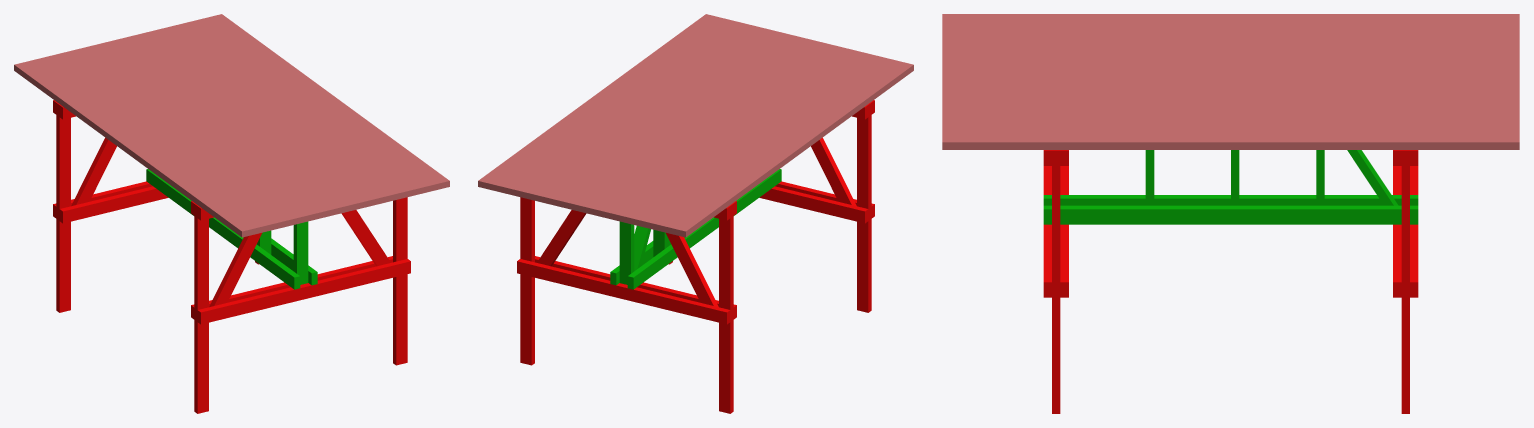
File: result.glb
3 views of the same model, side by side, from view 1: azimuth 30°, elevation 25°; view 2: azimuth 150°, elevation 25°; view 3: azimuth 270°, elevation 25° (orthographic). The views are drawn at different scales.
Parts seen in each view (by area): view 1: 9792a652-3efe-4f3f-b8a2-f548344d729b__Box, f1fec5ac-996d-42b7-b655-f2991d776836__sideH, f854be0a-c962-4844-a119-3eed3d0a4d00__undefined, 90ff8b2f-a853-48b8-ade2-2514db8a332b__sideV, 4728dd66-3bbc-416c-b225-6a0065177131__undefined, dd895e64-b2ae-44ae-b4f8-70ebdcbf1f4d__undefined, 9f80adec-7535-410c-8f7d-816133cfb4ee__undefined, a4da13e2-b9cd-4820-9bde-fc8479179db9__undefined, 02b046d8-9308-4064-b2f2-4af745e54d1c__undefined, 0e6a5e06-e553-4881-99ba-8f347dae840a__undefined, 61697658-4a92-440d-92f1-de6cc0e69054__undefined, 62936e7d-864f-4320-a2c1-ad2148bf4076__undefined (+19 smaller); view 2: 9792a652-3efe-4f3f-b8a2-f548344d729b__Box, 4464c026-9ac7-4032-bff3-0145e7881b99__undefined, 90ff8b2f-a853-48b8-ade2-2514db8a332b__sideV, f854be0a-c962-4844-a119-3eed3d0a4d00__undefined, 4728dd66-3bbc-416c-b225-6a0065177131__undefined, dd895e64-b2ae-44ae-b4f8-70ebdcbf1f4d__undefined, 9f80adec-7535-410c-8f7d-816133cfb4ee__undefined, a4da13e2-b9cd-4820-9bde-fc8479179db9__undefined, 02b046d8-9308-4064-b2f2-4af745e54d1c__undefined, 0e6a5e06-e553-4881-99ba-8f347dae840a__undefined, 61697658-4a92-440d-92f1-de6cc0e69054__undefined, 62936e7d-864f-4320-a2c1-ad2148bf4076__undefined (+19 smaller); view 3: 78b938e6-7015-48a1-84b4-b5d0e40783f9__undefined, 88ea505d-9f18-492b-9526-5902eb6b181f__strutH, 62936e7d-864f-4320-a2c1-ad2148bf4076__undefined, 02b046d8-9308-4064-b2f2-4af745e54d1c__undefined, 4728dd66-3bbc-416c-b225-6a0065177131__undefined, 1b61d40e-7fde-4cdb-9a35-c4bdc9554470__undefined, dd895e64-b2ae-44ae-b4f8-70ebdcbf1f4d__undefined, 61697658-4a92-440d-92f1-de6cc0e69054__undefined, da17747e-59f6-4504-9fa0-5fcd4ef2f35b__undefined, bf6d5e15-386f-40d2-84f0-f1fee8102ab4__undefined, c33bd7eb-45bf-45fe-bdcc-a957ac7b1c8f__undefined, 2b1341b1-254e-4b96-ad55-392aa042ffb5__undefined (+16 smaller).
Boxes of the visible parts, <box> form: 9792a652-3efe-4f3f-b8a2-f548344d729b__Box: <box>14,62,253,237</box>; f1fec5ac-996d-42b7-b655-f2991d776836__sideH: <box>197,259,410,324</box>; f854be0a-c962-4844-a119-3eed3d0a4d00__undefined: <box>56,102,70,312</box>; 90ff8b2f-a853-48b8-ade2-2514db8a332b__sideV: <box>194,203,208,413</box>; 4728dd66-3bbc-416c-b225-6a0065177131__undefined: <box>49,53,288,228</box>; dd895e64-b2ae-44ae-b4f8-70ebdcbf1f4d__undefined: <box>72,48,311,223</box>; 9f80adec-7535-410c-8f7d-816133cfb4ee__undefined: <box>176,22,415,197</box>; a4da13e2-b9cd-4820-9bde-fc8479179db9__undefined: <box>199,17,438,192</box>; 02b046d8-9308-4064-b2f2-4af745e54d1c__undefined: <box>37,56,276,231</box>; 0e6a5e06-e553-4881-99ba-8f347dae840a__undefined: <box>164,25,403,200</box>; 61697658-4a92-440d-92f1-de6cc0e69054__undefined: <box>83,45,322,220</box>; 62936e7d-864f-4320-a2c1-ad2148bf4076__undefined: <box>26,59,264,234</box>; 9792a652-3efe-4f3f-b8a2-f548344d729b__Box: <box>674,62,913,237</box>; 4464c026-9ac7-4032-bff3-0145e7881b99__undefined: <box>517,259,730,324</box>; 90ff8b2f-a853-48b8-ade2-2514db8a332b__sideV: <box>857,102,871,312</box>; f854be0a-c962-4844-a119-3eed3d0a4d00__undefined: <box>719,203,733,413</box>; 4728dd66-3bbc-416c-b225-6a0065177131__undefined: <box>639,53,878,228</box>; dd895e64-b2ae-44ae-b4f8-70ebdcbf1f4d__undefined: <box>616,48,855,223</box>; 9f80adec-7535-410c-8f7d-816133cfb4ee__undefined: <box>512,22,751,197</box>; a4da13e2-b9cd-4820-9bde-fc8479179db9__undefined: <box>489,17,728,192</box>; 02b046d8-9308-4064-b2f2-4af745e54d1c__undefined: <box>651,56,890,231</box>; 0e6a5e06-e553-4881-99ba-8f347dae840a__undefined: <box>524,25,763,200</box>; 61697658-4a92-440d-92f1-de6cc0e69054__undefined: <box>605,45,844,220</box>; 62936e7d-864f-4320-a2c1-ad2148bf4076__undefined: <box>663,59,901,234</box>; 78b938e6-7015-48a1-84b4-b5d0e40783f9__undefined: <box>942,135,1519,149</box>; 88ea505d-9f18-492b-9526-5902eb6b181f__strutH: <box>1043,205,1418,224</box>; 62936e7d-864f-4320-a2c1-ad2148bf4076__undefined: <box>942,21,1519,28</box>; 02b046d8-9308-4064-b2f2-4af745e54d1c__undefined: <box>942,28,1519,35</box>; 4728dd66-3bbc-416c-b225-6a0065177131__undefined: <box>942,35,1519,42</box>; 1b61d40e-7fde-4cdb-9a35-c4bdc9554470__undefined: <box>942,42,1519,49</box>; dd895e64-b2ae-44ae-b4f8-70ebdcbf1f4d__undefined: <box>942,49,1519,56</box>; 61697658-4a92-440d-92f1-de6cc0e69054__undefined: <box>942,56,1519,63</box>; da17747e-59f6-4504-9fa0-5fcd4ef2f35b__undefined: <box>942,71,1519,78</box>; bf6d5e15-386f-40d2-84f0-f1fee8102ab4__undefined: <box>942,78,1519,85</box>; c33bd7eb-45bf-45fe-bdcc-a957ac7b1c8f__undefined: <box>942,85,1519,92</box>; 2b1341b1-254e-4b96-ad55-392aa042ffb5__undefined: <box>942,92,1519,99</box>.
Size of the model in its own units: 910 by 885 by 1710.
